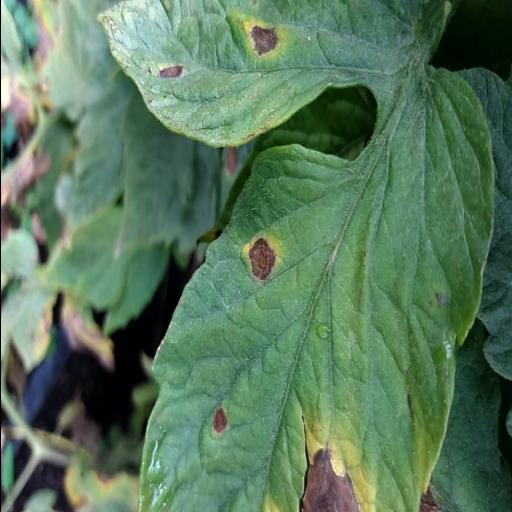disease_tomato: (133, 141, 499, 512), (94, 0, 374, 149)
